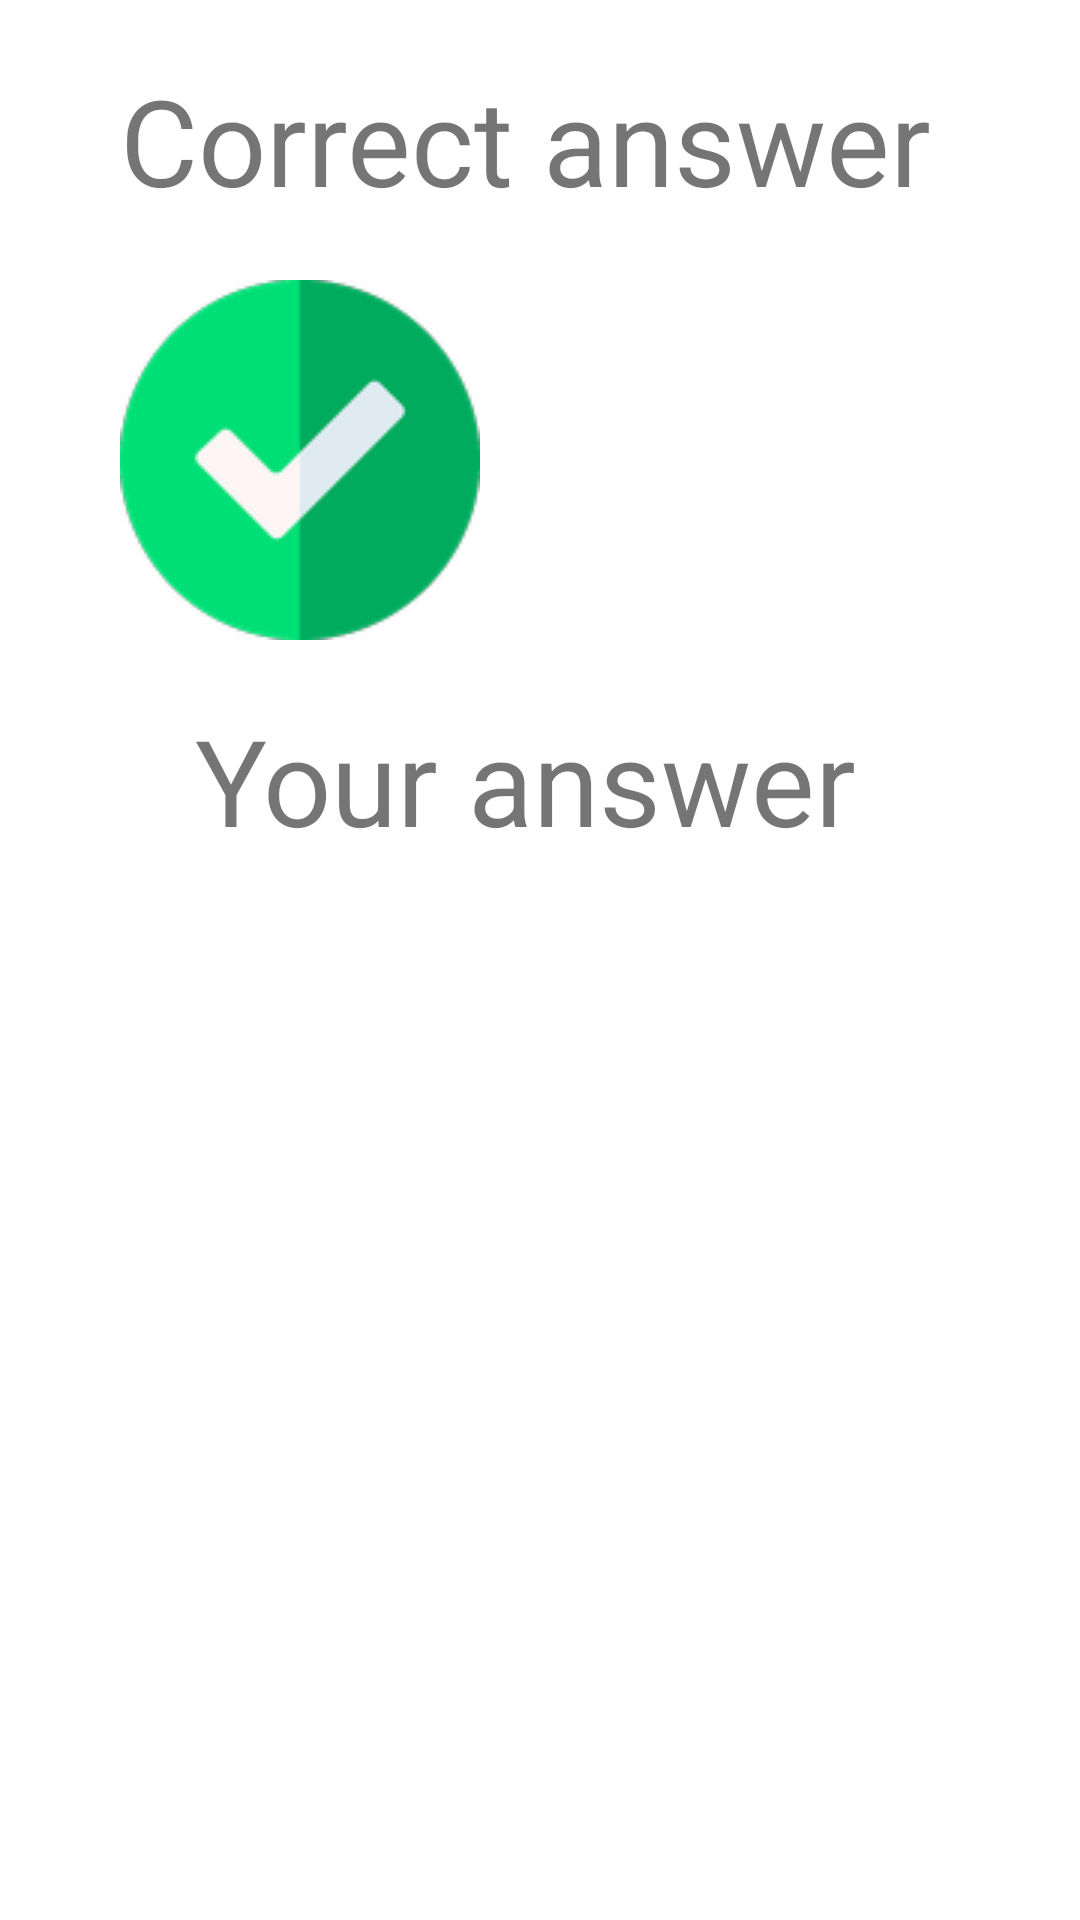

Where to tap for icons on this 1080w x 1920h app screen, as [x,y]:
check: [300,460]
